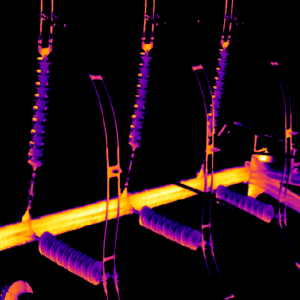insulator: (37, 230, 105, 285), (136, 204, 201, 250), (25, 53, 50, 170), (126, 49, 153, 148), (213, 182, 275, 223), (204, 46, 230, 138)
